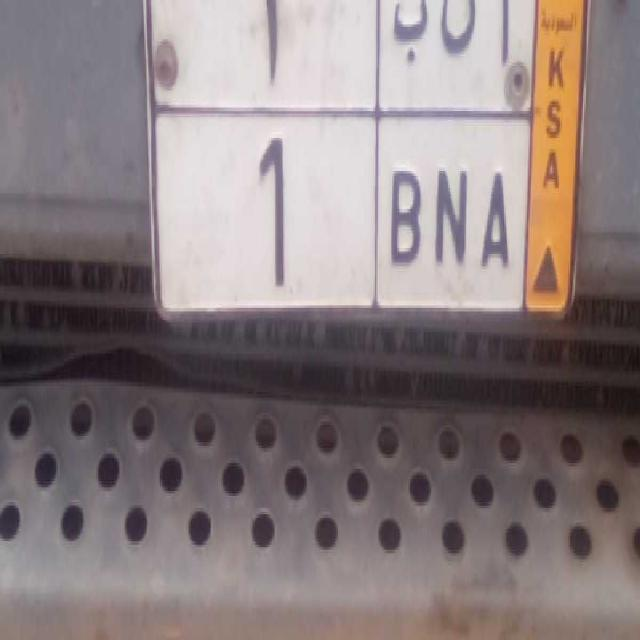license_plate: (150, 104, 526, 315)
